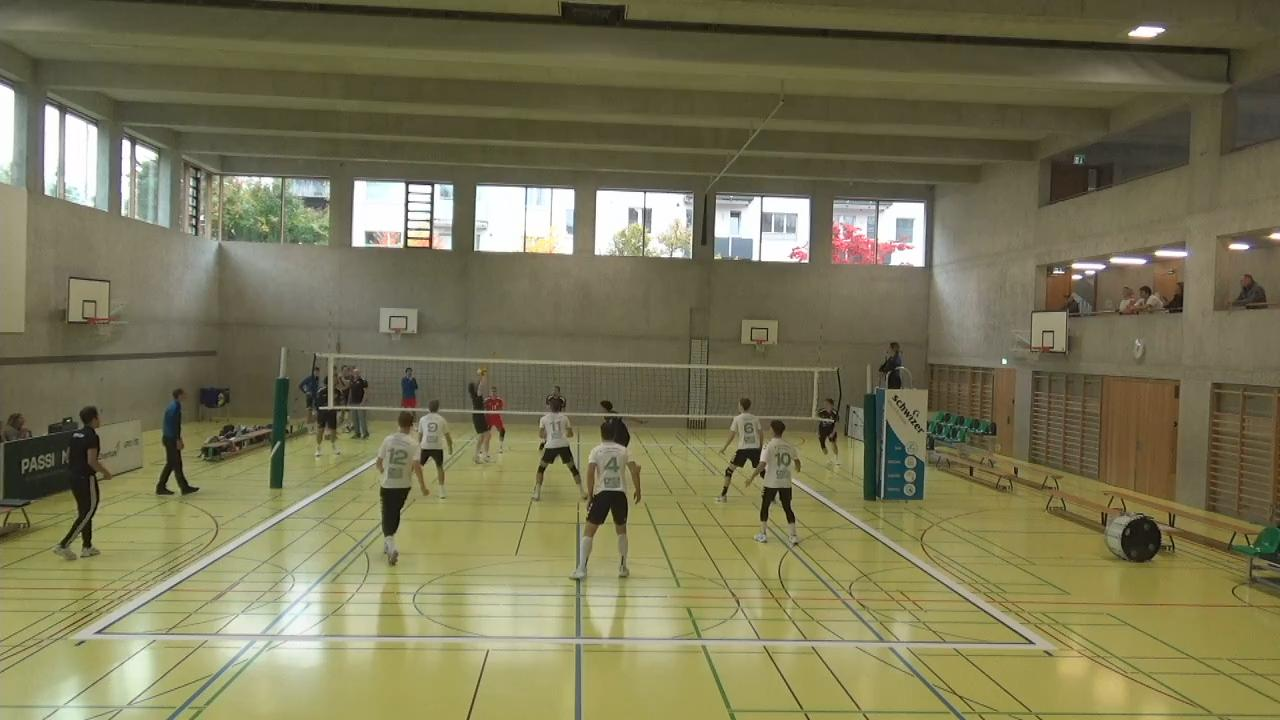Player: (572, 418, 634, 580), (375, 413, 430, 565), (754, 419, 799, 545), (534, 395, 585, 502), (716, 397, 762, 501), (416, 399, 454, 499), (311, 376, 344, 458), (816, 394, 844, 466), (480, 385, 505, 461), (596, 399, 626, 452)
Set: (463, 366, 491, 462)
ball: (475, 362, 488, 377)
